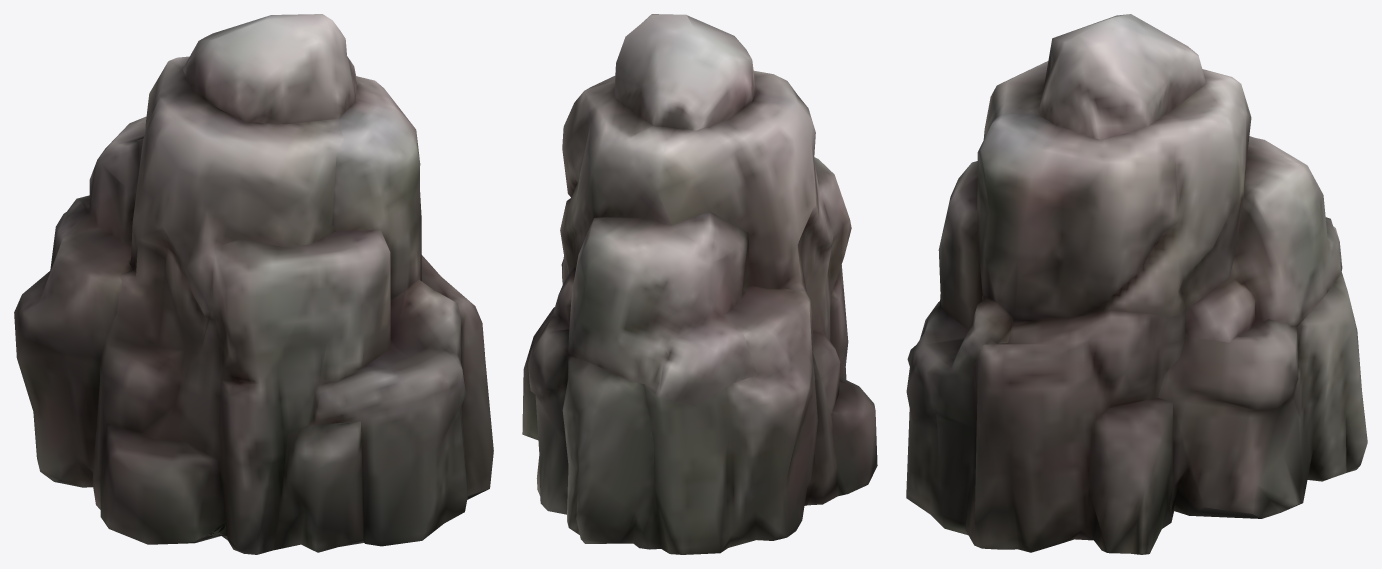
Rendered from stone_d.glb.
3 views of the same model, side by side, from view 1: azimuth 30°, elevation 25°; view 2: azimuth 150°, elevation 25°; view 3: azimuth 270°, elevation 25° (orthographic). The views are drawn at different scales.
Visible parts, largest first — view 1: Big_3_BiG_0; view 2: Big_3_BiG_0; view 3: Big_3_BiG_0.
Part boxes in pixels (x1,y1,x2,y2): Big_3_BiG_0: (14,14,493,554); Big_3_BiG_0: (522,14,877,554); Big_3_BiG_0: (906,14,1367,554).
Size of the model in its own units: 4.19 by 5.29 by 4.84.
1 material, 1 textured.
